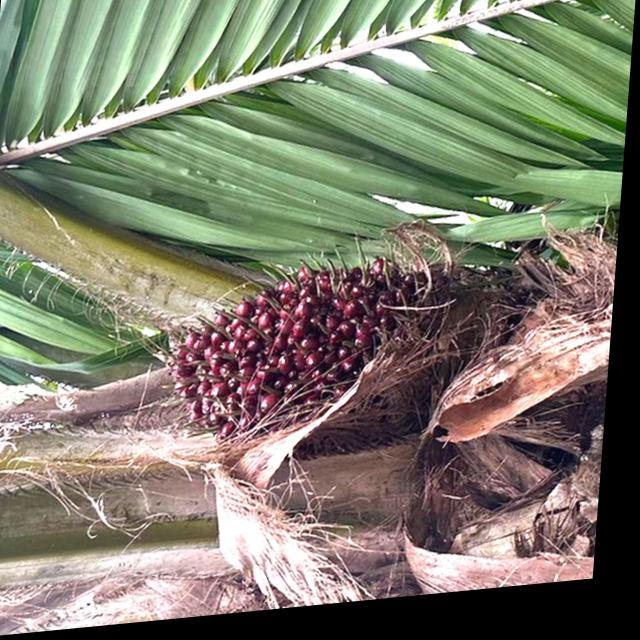ripe: (150, 243, 470, 475)
